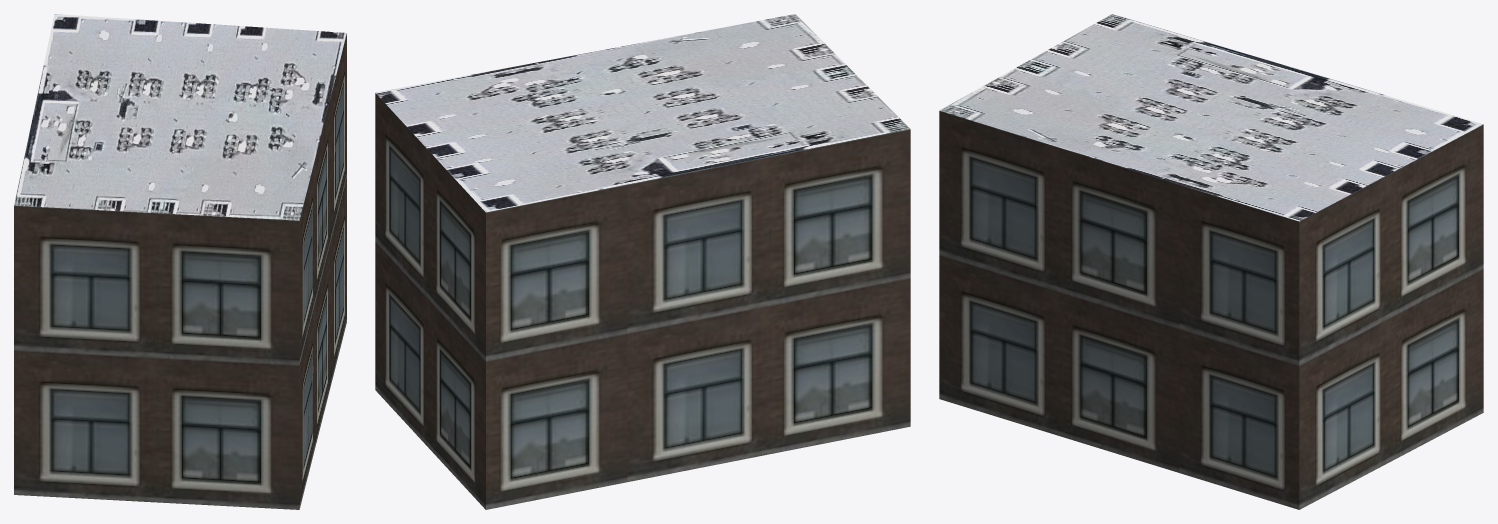
Rendered from ResTex__4006.fbx.
3 views of the same model, side by side, from view 1: azimuth 30°, elevation 25°; view 2: azimuth 150°, elevation 25°; view 3: azimuth 270°, elevation 25° (orthographic). The views are drawn at different scales.
Parts seen in each view (by area): view 1: CityEngineMaterial_16_m, CityEngineMaterial_15_m; view 2: CityEngineMaterial_16_m, CityEngineMaterial_15_m; view 3: CityEngineMaterial_16_m, CityEngineMaterial_15_m.
Boxes of the visible parts, x1=… form: CityEngineMaterial_16_m: x1=14, y1=34, x2=346, y2=509; CityEngineMaterial_15_m: x1=14, y1=14, x2=346, y2=220; CityEngineMaterial_16_m: x1=375, y1=93, x2=910, y2=509; CityEngineMaterial_15_m: x1=375, y1=14, x2=910, y2=212; CityEngineMaterial_16_m: x1=939, y1=111, x2=1483, y2=509; CityEngineMaterial_15_m: x1=939, y1=14, x2=1483, y2=221.
Size of the model in its own units: 9.26 by 6 by 10.27.
Materials: 2 (2 with a texture image).
